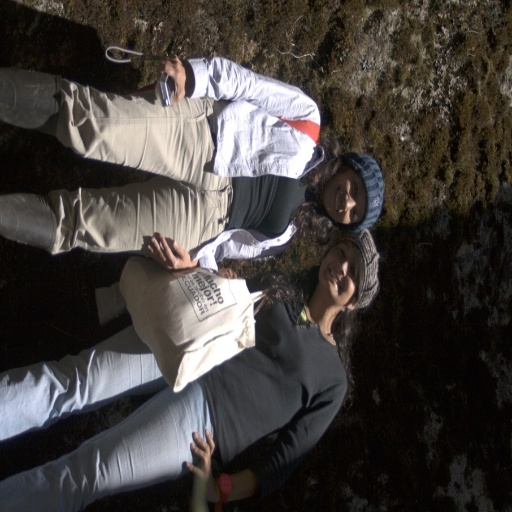hand: (183, 422, 215, 503), (138, 231, 192, 272), (155, 50, 191, 107), (215, 267, 236, 279)
